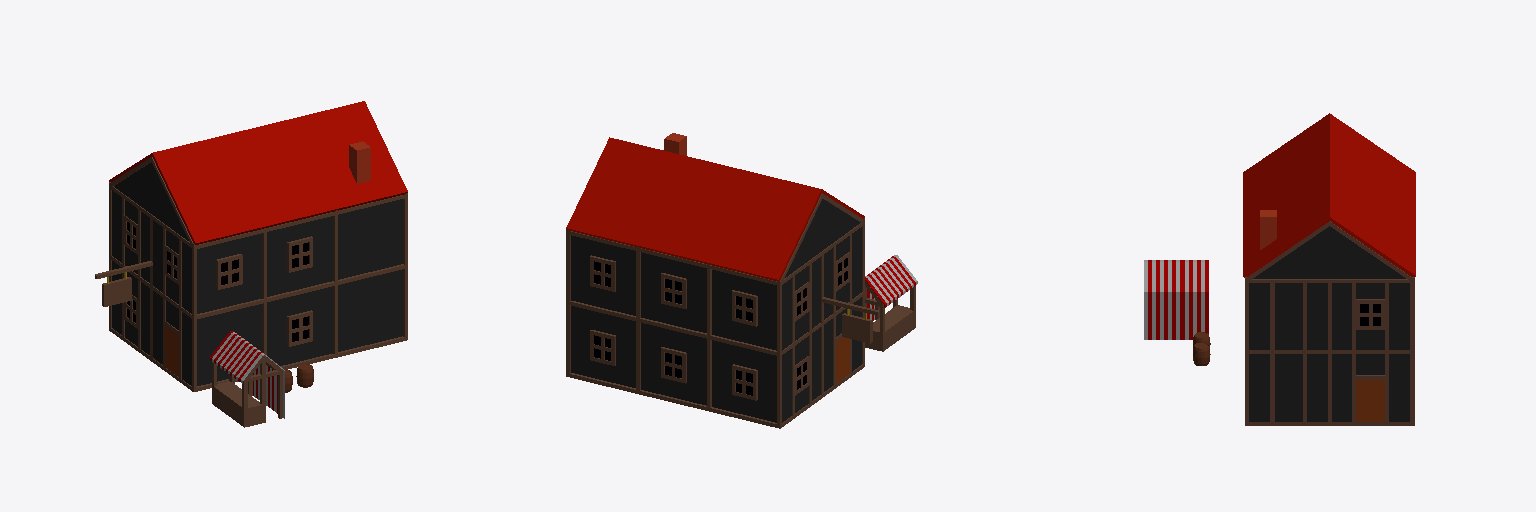
File: timberframedmerchant.obj
3 views of the same model, side by side, from view 1: azimuth 30°, elevation 25°; view 2: azimuth 150°, elevation 25°; view 3: azimuth 270°, elevation 25° (orthographic).
Visible parts, largest first — view 1: Cube.005, Cube.007_Cube.011, Cube.011_Cube.015, Cube.018_Cube.016, Cube.056_Cube.081, Cube.001_Cube.058, Cube.013_Cube.080, Cube.006_Cube.010, Cube.026_Cube.019, Cube.055_Cube.059, Cube.073_Cube.078, Cube.012_Cube.017 (+5 smaller); view 2: Cube.005, Cube.007_Cube.011, Cube.023_Cube.026, Cube.022_Cube.025, Cube.021_Cube.024, Cube.015_Cube.020, Cube.019_Cube.022, Cube.017_Cube.021, Cube.014_Cube.018, Cube.008, Cube.020_Cube.023, Cube.073_Cube.078 (+6 smaller); view 3: Cube.005, Cube.007_Cube.011, Cube.147_Cube.153, Cube.003, Cube.033, Cube.027, Cube.047_Cube.049, Cube.031, Cube.016_Cube.013, Cube.006_Cube.010, Cube.012_Cube.017, Cube.032 (+4 smaller).
Boxes of the visible parts, box(x1,y1,x2,y2) form: Cube.005: box(112, 162, 402, 385); Cube.007_Cube.011: box(109, 101, 407, 244); Cube.011_Cube.015: box(195, 264, 405, 319); Cube.018_Cube.016: box(195, 195, 406, 249); Cube.056_Cube.081: box(216, 254, 242, 289); Cube.001_Cube.058: box(287, 310, 312, 346); Cube.013_Cube.080: box(287, 236, 312, 272); Cube.006_Cube.010: box(349, 141, 370, 183); Cube.026_Cube.019: box(192, 243, 196, 391); Cube.055_Cube.059: box(196, 336, 406, 391); Cube.073_Cube.078: box(102, 277, 131, 306); Cube.012_Cube.017: box(403, 193, 407, 339); Cube.005: box(571, 199, 861, 422); Cube.007_Cube.011: box(566, 137, 864, 280); Cube.023_Cube.026: box(567, 373, 779, 427); Cube.022_Cube.025: box(567, 301, 779, 355); Cube.021_Cube.024: box(567, 231, 777, 284); Cube.015_Cube.020: box(732, 290, 757, 326); Cube.019_Cube.022: box(661, 347, 686, 383); Cube.017_Cube.021: box(590, 330, 615, 365); Cube.014_Cube.018: box(661, 273, 686, 308); Cube.008: box(590, 255, 615, 291); Cube.020_Cube.023: box(732, 364, 757, 400); Cube.073_Cube.078: box(842, 313, 872, 343); Cube.005: box(1249, 226, 1409, 421); Cube.007_Cube.011: box(1243, 113, 1415, 277); Cube.147_Cube.153: box(1144, 292, 1208, 339); Cube.003: box(1356, 380, 1384, 421); Cube.033: box(1356, 299, 1384, 329); Cube.027: box(1410, 277, 1414, 425); Cube.047_Cube.049: box(1270, 279, 1274, 423); Cube.031: box(1248, 422, 1410, 425); Cube.016_Cube.013: box(1248, 350, 1410, 353); Cube.006_Cube.010: box(1260, 210, 1276, 249); Cube.012_Cube.017: box(1245, 277, 1248, 425); Cube.032: box(1248, 279, 1410, 282).
Bounding box in the file's own units: 15.3 × 11.25 × 13.34.